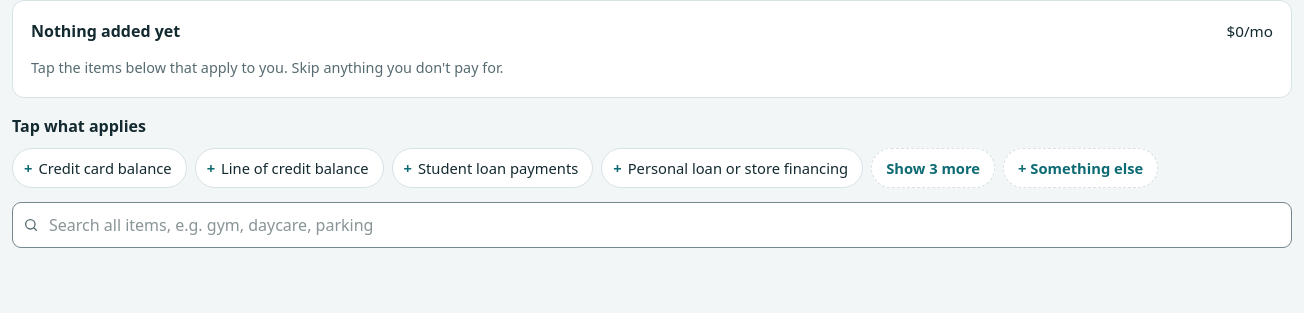
it: BucketStep › shows the other items behind “Show more” and hides them again
The width and height of the screenshot is (1304, 313).
Expected: the number of buttons named "Add " is 4, [12,148,187,188]; [195,148,384,188]; [392,148,593,188]; [601,148,863,188]
Click the button "Show 3 more": (933, 168) [871,148,995,188]
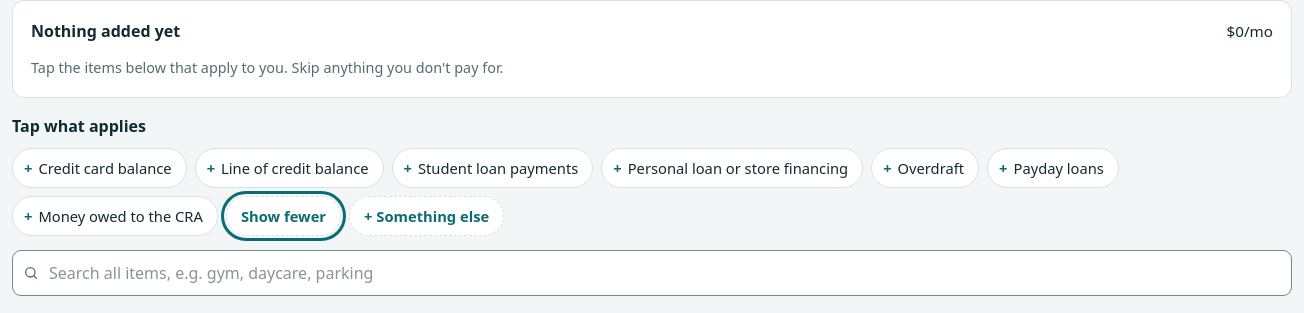
Expected: the button named "Show 3 more" is expanded
Expected: the button named "Show 3 more" reads "Show fewer"
Expected: the number of buttons named "Add " is 7
Click the button named "Show 3 more": (283, 216) [226,196,341,236]
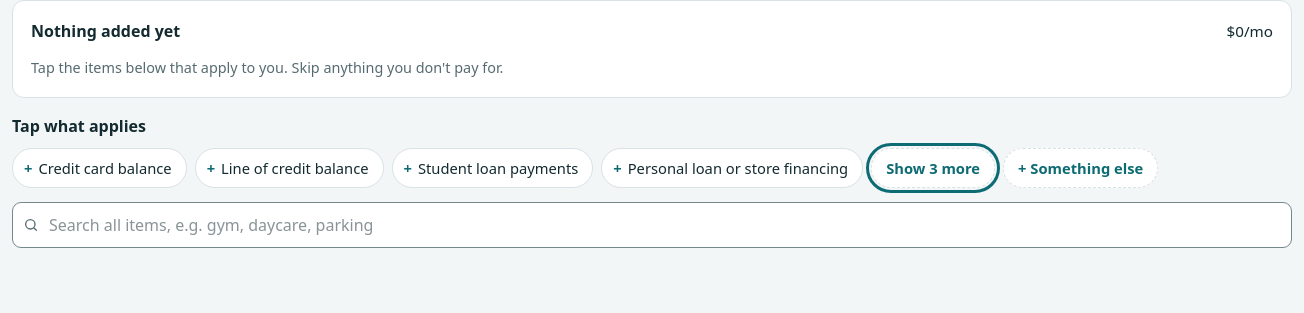
Expected: the number of buttons named "Add " is 4, [12,148,187,188]; [195,148,384,188]; [392,148,593,188]; [601,148,863,188]
